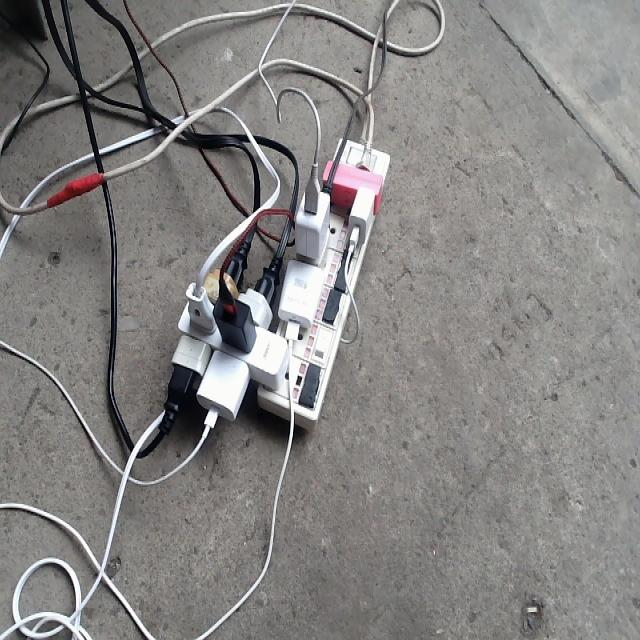-: (163, 132, 389, 429)
